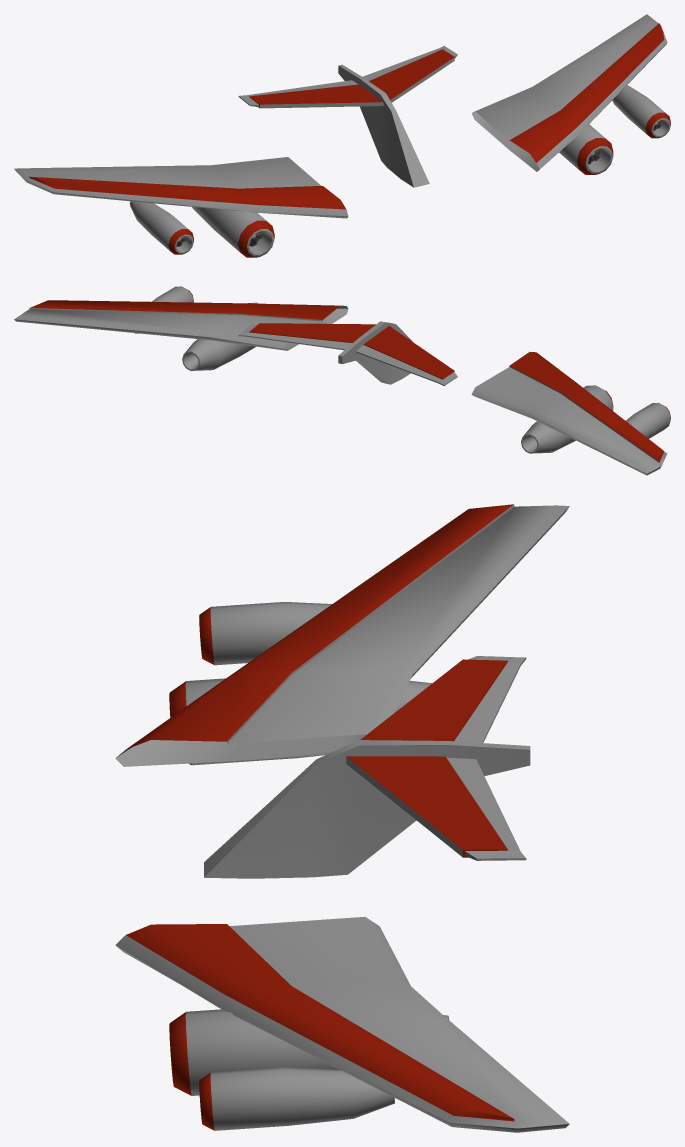
File: Airplane (2).fbx
3 views of the same model, one above another, from view 1: azimuth 30°, elevation 25°; view 2: azimuth 150°, elevation 25°; view 3: azimuth 270°, elevation 25° (orthographic). The views are drawn at different scales.
Parts seen in each view (by area): view 1: Airplane_01, Airplane_01.001, Airplane_02; view 2: Airplane_01, Airplane_01.001, Airplane_02; view 3: Airplane_01.001, Airplane_01, Airplane_02.
Boxes of the visible parts, x1,y1,x2,y2 form: Airplane_01: [14, 157, 348, 257]; Airplane_01.001: [471, 14, 670, 174]; Airplane_02: [238, 46, 457, 187]; Airplane_01: [471, 352, 670, 475]; Airplane_01.001: [14, 286, 348, 370]; Airplane_02: [238, 321, 457, 385]; Airplane_01.001: [115, 916, 569, 1132]; Airplane_01: [115, 504, 569, 766]; Airplane_02: [204, 656, 530, 878].
Bounding box in the file's own units: 7.68 × 1.06 × 2.38.
